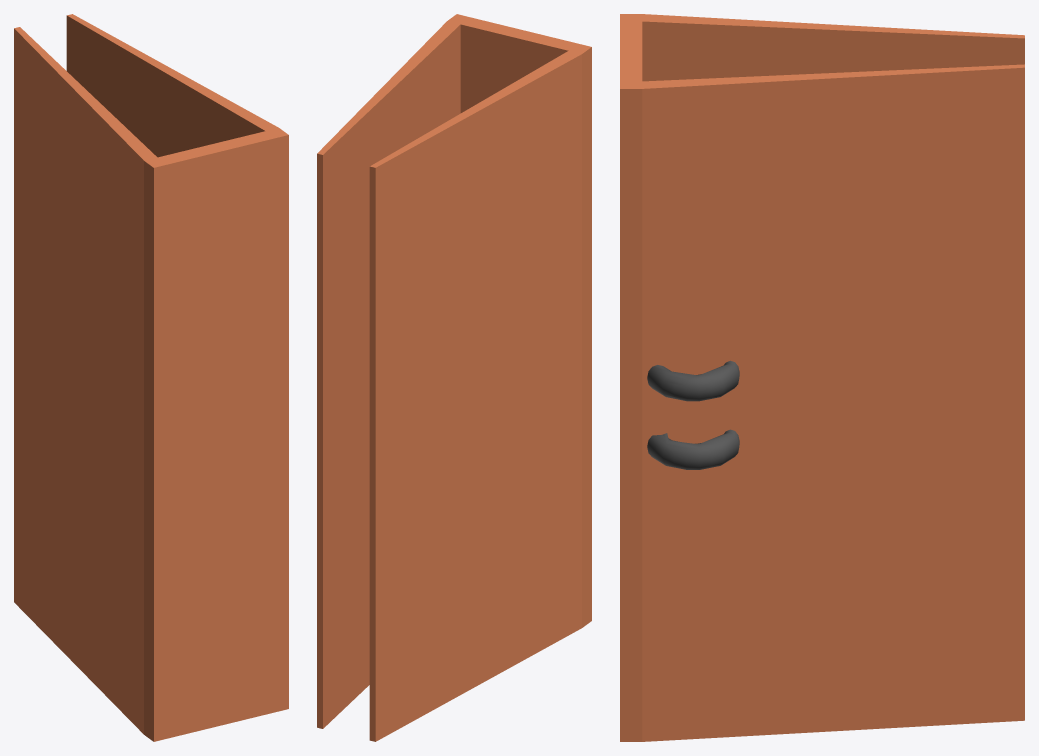
The model's file is Aktenordner.fbx.
3 renders of one model, left to right at view 1: azimuth 30°, elevation 25°; view 2: azimuth 150°, elevation 25°; view 3: azimuth 270°, elevation 25°, orthographic. The views are drawn at different scales.
Parts seen in each view (by area): view 1: Aktenordner_LOD0; view 2: Aktenordner_LOD0; view 3: Aktenordner_LOD0, Ring2_LOD0, Ring1_LOD0.
Part boxes in pixels (x1,y1,x2,y2): Aktenordner_LOD0: (14, 14, 288, 741); Aktenordner_LOD0: (317, 14, 591, 741); Aktenordner_LOD0: (620, 14, 1024, 741); Ring2_LOD0: (647, 360, 739, 401); Ring1_LOD0: (647, 429, 739, 469).
Size of what is drawn, in the model's own units: 0.1243 by 0.4225 by 0.2375.
